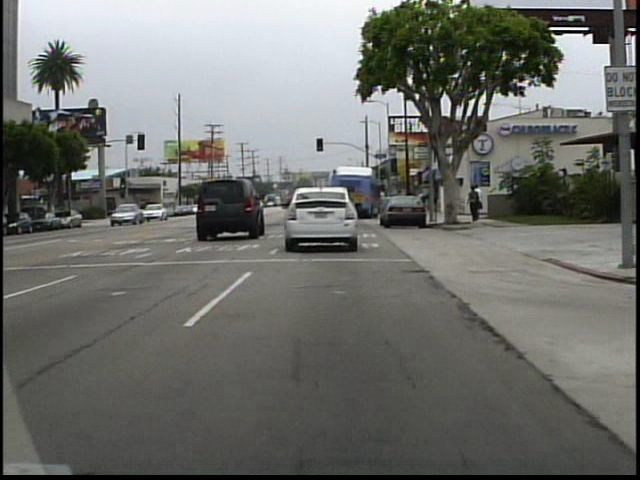person: (467, 183, 483, 225), (474, 182, 486, 221)
